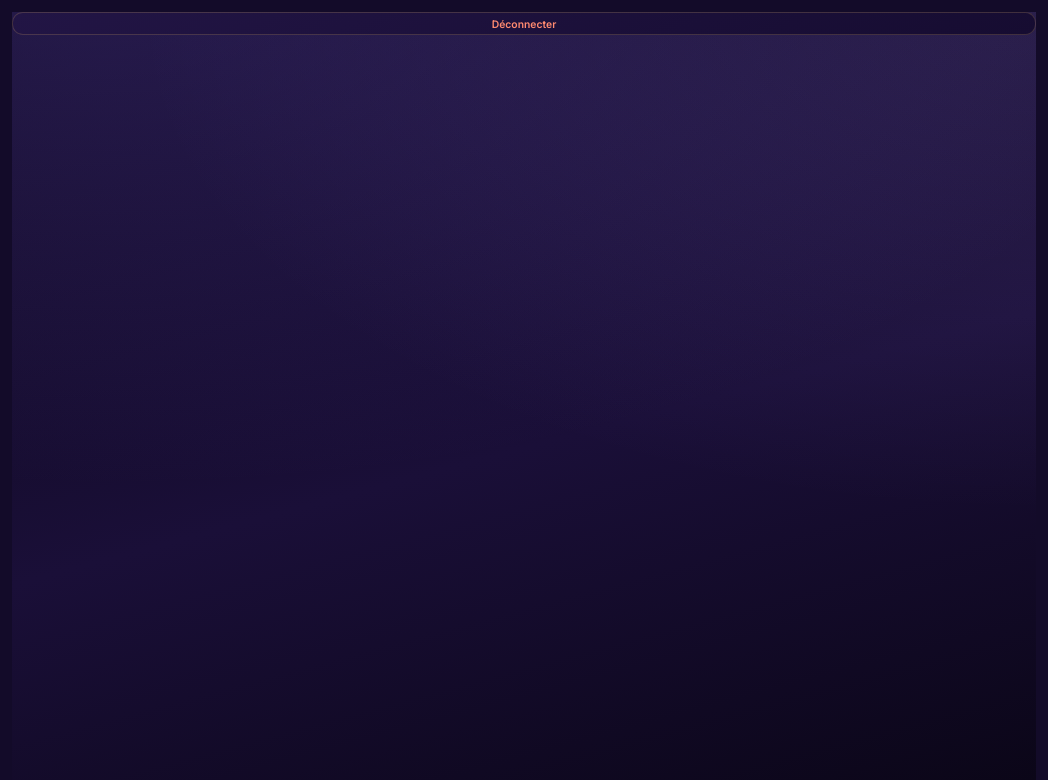
Test: BoutonDeconnecterAgenda › n’appelle rien au premier clic : il demande confirmation
Step 1. Click the button "Déconnecter" → (524, 24), box [12,12,1036,35]
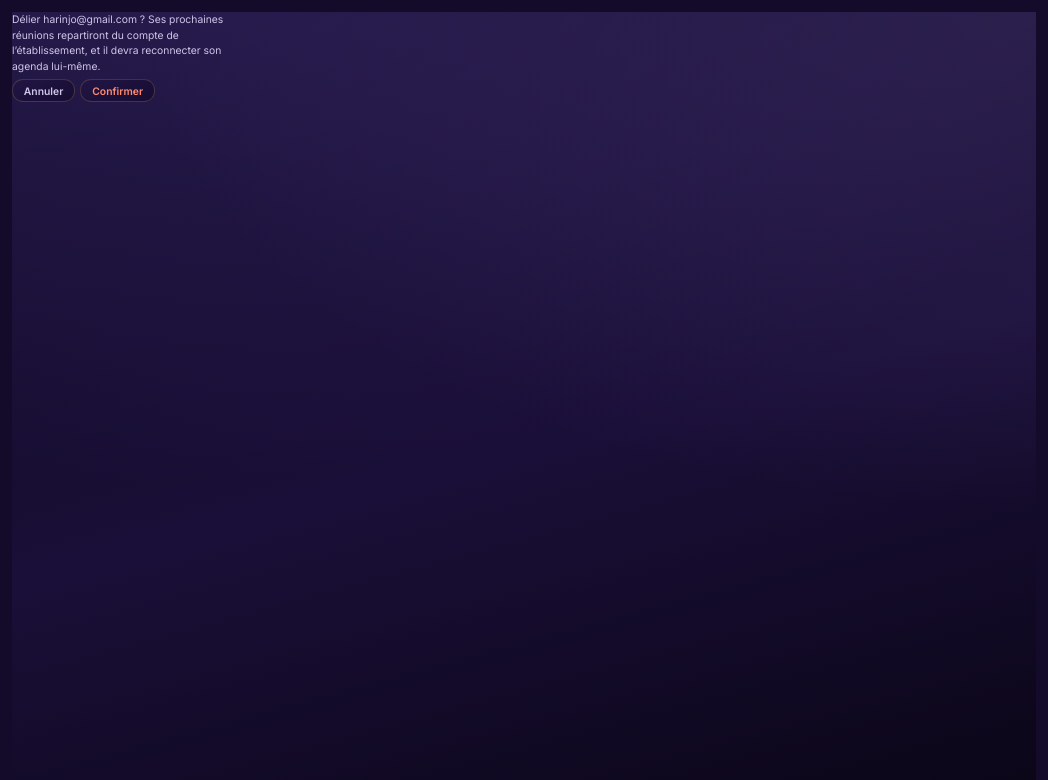
Expected: the text "Délier harinjo@gmail.com" is shown, [12,12,246,74]
